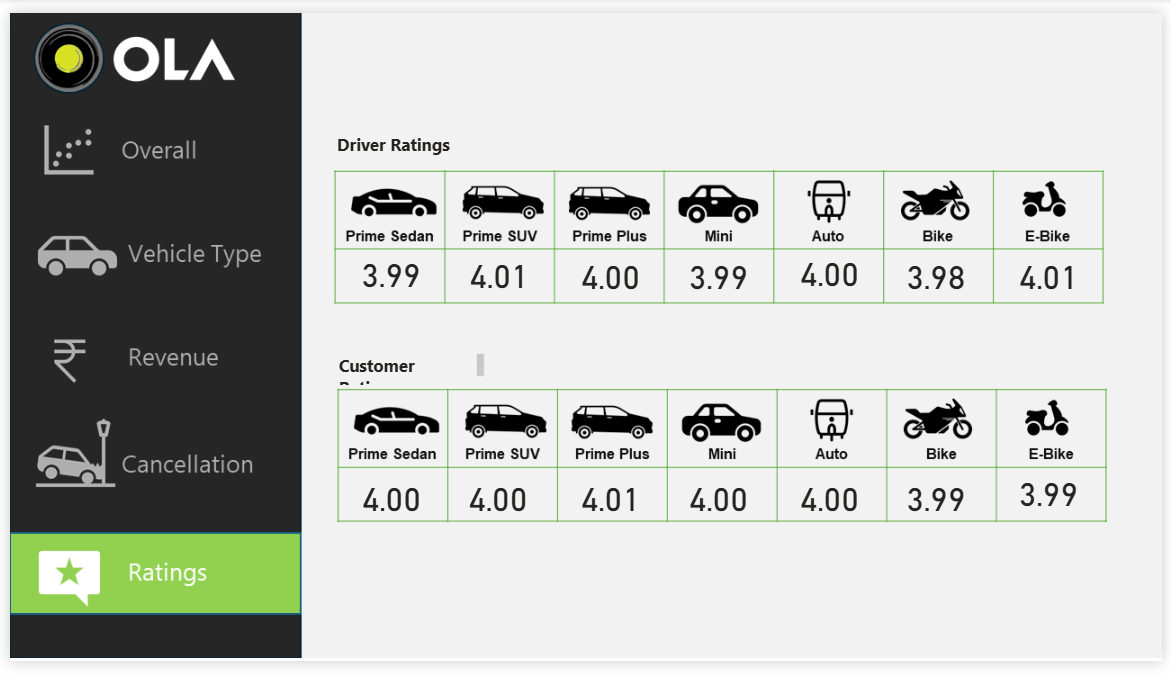

What the dashboard file says about the page in this screenshot:
{"tool":"powerbi","page":{"name":"Ratings","canvas":[1280,720],"ordinal":4},"visuals":[{"type":"actionButton","box":[0,228.2,322,90.7],"z":0},{"type":"actionButton","box":[0,106.3,322,90.7],"z":1000},{"type":"actionButton","box":[0,339.2,322,90.7],"z":2000},{"type":"actionButton","box":[0,459.5,322,90.7],"z":3000},{"type":"actionButton","box":[0,575.2,322,90.7],"z":4000},{"type":"card","fields":{"Values":["Avg(July.Driver_Ratings)"]},"box":[370.4,257,105.8,62.4],"z":5000},{"type":"card","fields":{"Values":["Avg(July.Driver_Ratings)"]},"box":[489.5,258.9,105.8,62.4],"z":6000},{"type":"card","fields":{"Values":["Avg(July.Driver_Ratings)"]},"box":[613.3,258.3,106.7,63.3],"z":7000},{"type":"card","fields":{"Values":["Avg(July.Driver_Ratings)"]},"box":[733.3,258.3,106.7,63.3],"z":8000},{"type":"card","fields":{"Values":["Avg(July.Driver_Ratings)"]},"box":[856.7,255,106.7,63.3],"z":9000},{"type":"card","fields":{"Values":["Avg(July.Driver_Ratings)"]},"box":[975,258.3,106.7,63.3],"z":10000},{"type":"card","fields":{"Values":["Avg(July.Driver_Ratings)"]},"box":[1100,258.3,106.7,63.3],"z":11000},{"type":"card","fields":{"Values":["Avg(July.Customer_Rating)"]},"box":[370,505,106.7,63.3],"z":12000},{"type":"textbox","box":[358.3,128.3,171.7,45],"z":13000},{"type":"textbox","box":[360,373.3,171.7,45],"z":14000},{"type":"card","fields":{"Values":["Avg(July.Customer_Rating)"]},"box":[488.3,505,106.7,63.3],"z":15000},{"type":"card","fields":{"Values":["Avg(July.Customer_Rating)"]},"box":[613.3,505,106.7,63.3],"z":16000},{"type":"card","fields":{"Values":["Avg(July.Customer_Rating)"]},"box":[733.3,505,106.7,63.3],"z":17000},{"type":"card","fields":{"Values":["Avg(July.Customer_Rating)"]},"box":[856.7,505,106.7,63.3],"z":18000},{"type":"card","fields":{"Values":["Avg(July.Customer_Rating)"]},"box":[975,505,106.7,63.3],"z":19000},{"type":"card","fields":{"Values":["Avg(July.Customer_Rating)"]},"box":[1100,495,106.7,73.3],"z":20000}]}

Visuals, with their boxes on the page's 1280x720 design canvas (x1, y1, x2, y2). These are canvas units, not pixel positions in the 1171x684 screenshot, which may show the page scaled, cropped or inside an application window:
actionButton: left=0, top=228, right=322, bottom=319
actionButton: left=0, top=106, right=322, bottom=197
actionButton: left=0, top=339, right=322, bottom=430
actionButton: left=0, top=460, right=322, bottom=550
actionButton: left=0, top=575, right=322, bottom=666
card - Avg(July.Driver_Ratings): left=370, top=257, right=476, bottom=319
card - Avg(July.Driver_Ratings): left=490, top=259, right=595, bottom=321
card - Avg(July.Driver_Ratings): left=613, top=258, right=720, bottom=322
card - Avg(July.Driver_Ratings): left=733, top=258, right=840, bottom=322
card - Avg(July.Driver_Ratings): left=857, top=255, right=963, bottom=318
card - Avg(July.Driver_Ratings): left=975, top=258, right=1082, bottom=322
card - Avg(July.Driver_Ratings): left=1100, top=258, right=1207, bottom=322
card - Avg(July.Customer_Rating): left=370, top=505, right=477, bottom=568
textbox: left=358, top=128, right=530, bottom=173
textbox: left=360, top=373, right=532, bottom=418
card - Avg(July.Customer_Rating): left=488, top=505, right=595, bottom=568
card - Avg(July.Customer_Rating): left=613, top=505, right=720, bottom=568
card - Avg(July.Customer_Rating): left=733, top=505, right=840, bottom=568
card - Avg(July.Customer_Rating): left=857, top=505, right=963, bottom=568
card - Avg(July.Customer_Rating): left=975, top=505, right=1082, bottom=568
card - Avg(July.Customer_Rating): left=1100, top=495, right=1207, bottom=568
